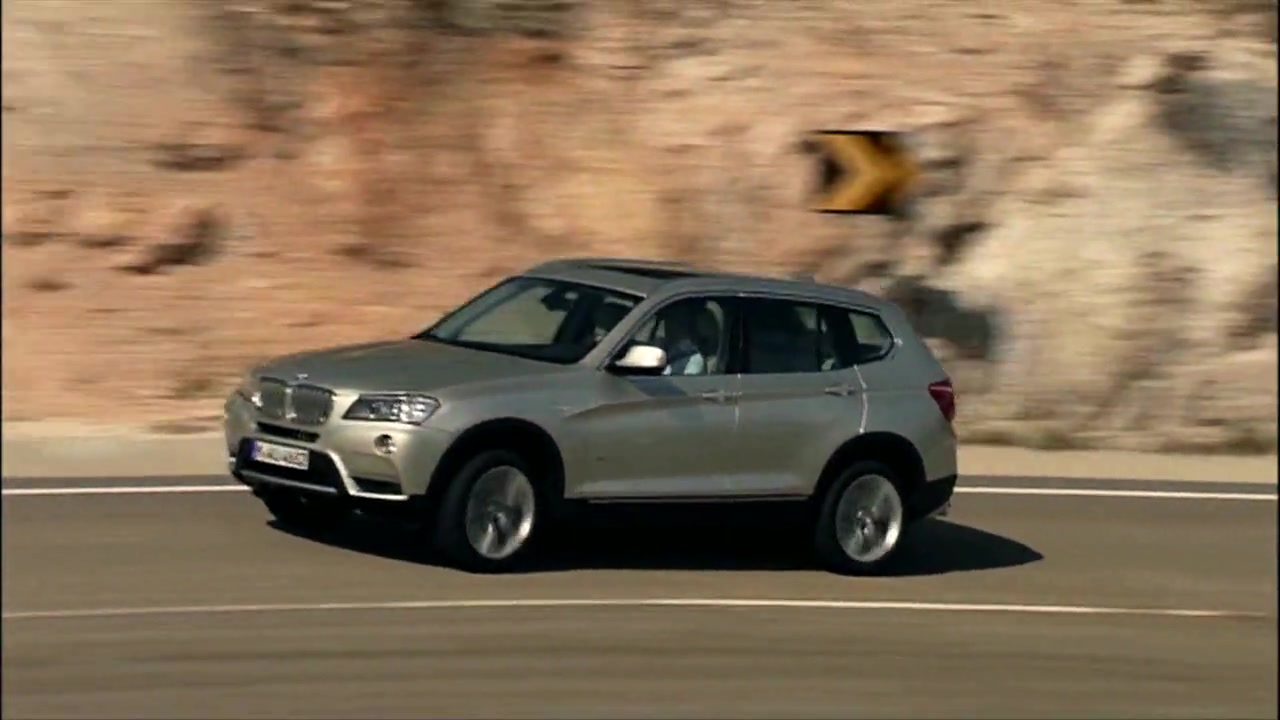car: (226, 251, 962, 576)
